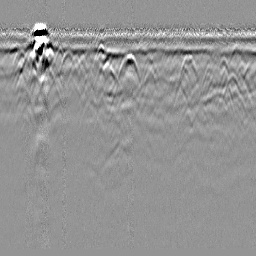cavity: (117, 52, 140, 83)
